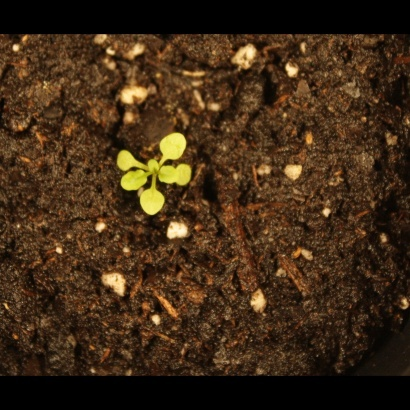leaf: (156, 128, 190, 160), (139, 186, 169, 219), (120, 167, 150, 195), (108, 146, 140, 169), (171, 163, 199, 189), (150, 163, 180, 186)
